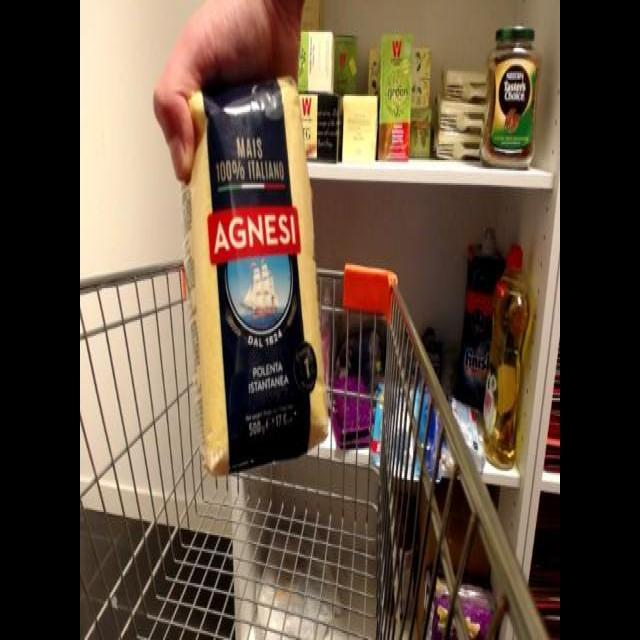Agnesi Polenta: (179, 68, 328, 481)
